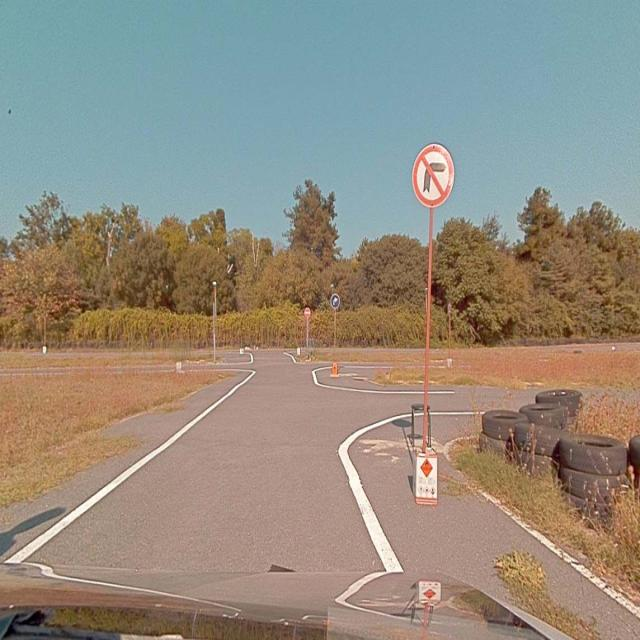girisyok: (304, 308, 310, 318)
sag: (330, 294, 340, 310)
sagadonulmez: (411, 143, 454, 205)
